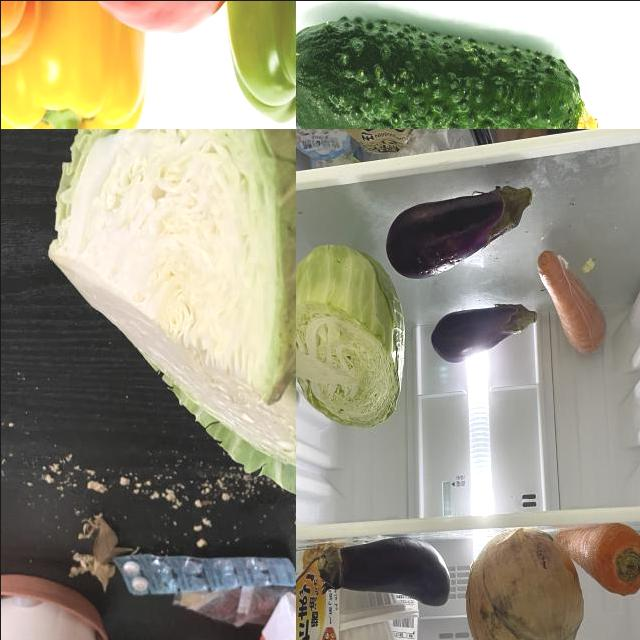bell_pepper: (1, 1, 149, 129)
cabbage: (47, 129, 296, 515), (296, 244, 405, 433)
carrot: (535, 250, 605, 354), (551, 524, 640, 594)
cucumber: (296, 12, 581, 129)
eggplant: (388, 185, 532, 276), (319, 538, 452, 607), (430, 304, 536, 366)
onion: (460, 531, 584, 640)
